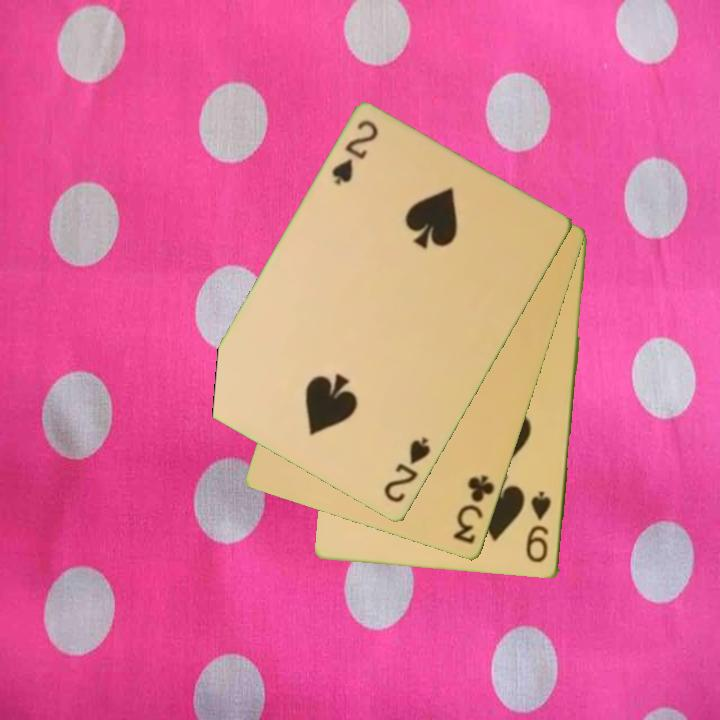2s: (380, 433, 434, 507), (328, 117, 382, 189)
3c: (449, 472, 498, 548)
9s: (523, 487, 554, 566)
